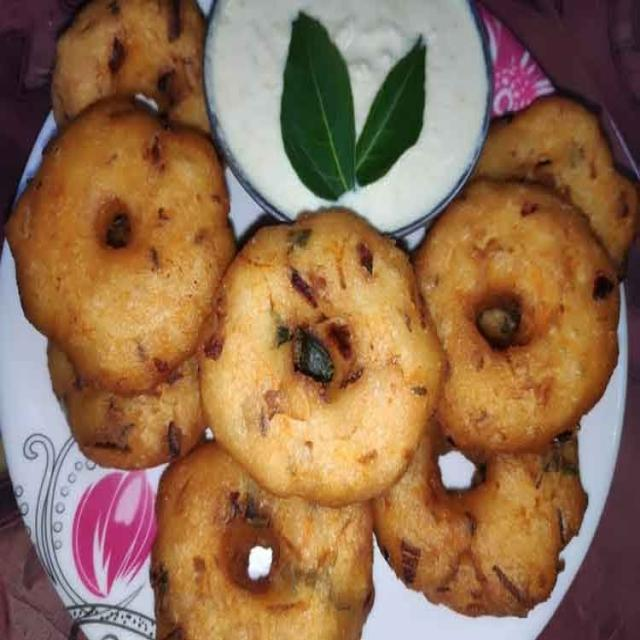medu vadai: (203, 216, 439, 500), (10, 104, 226, 380), (421, 188, 614, 452), (373, 415, 582, 611), (156, 445, 371, 634), (474, 98, 634, 263), (55, 0, 207, 132), (64, 351, 206, 469)
